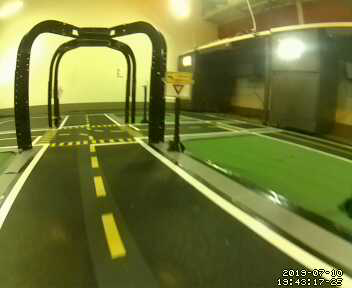Turn Yield: (164, 71, 191, 100)
